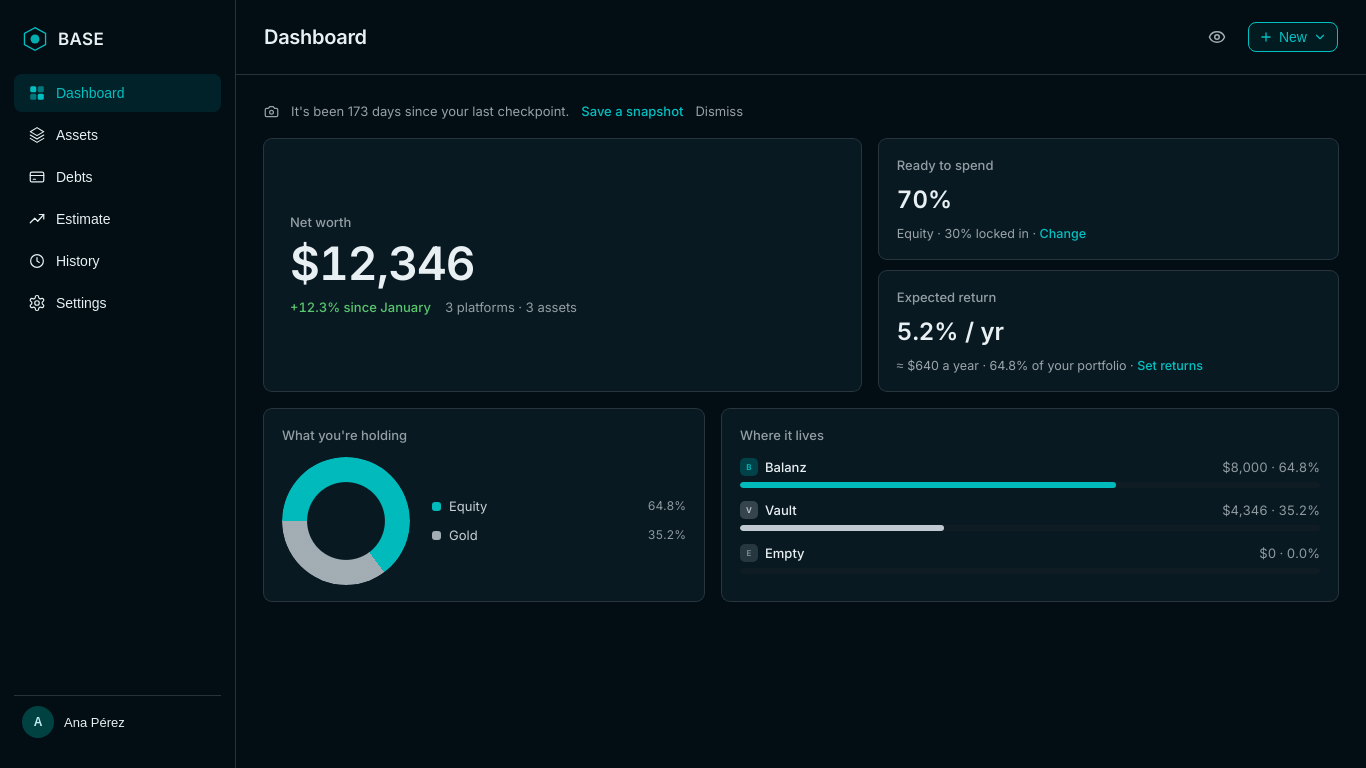
it: an asset’s expected return › is changed or cleared when editing one, and alone is a change
Expected: the text "$12,346" is shown, [290,235,475,291]
Click the button "Assets": (118, 135) [14,116,221,154]
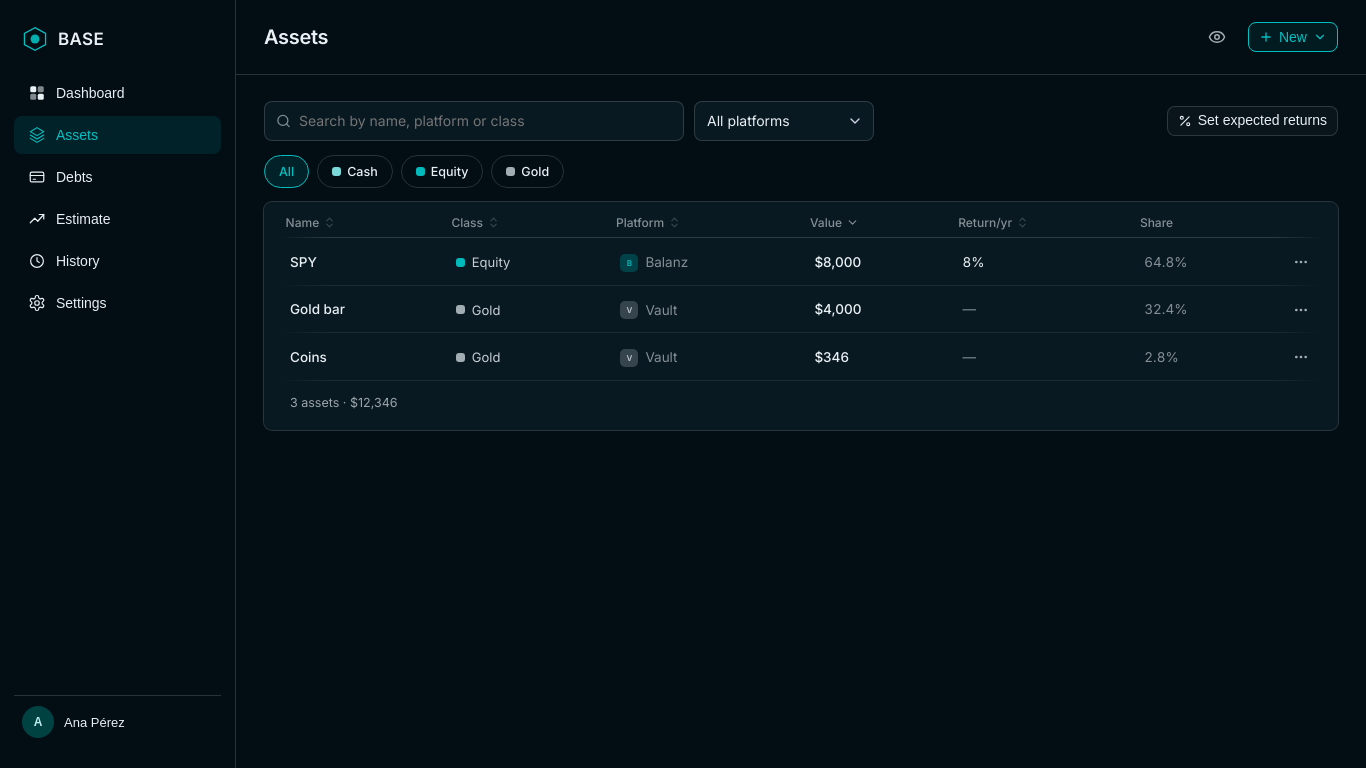
Click the button named "Actions for SPY": (1301, 262) [1286,247,1316,277]
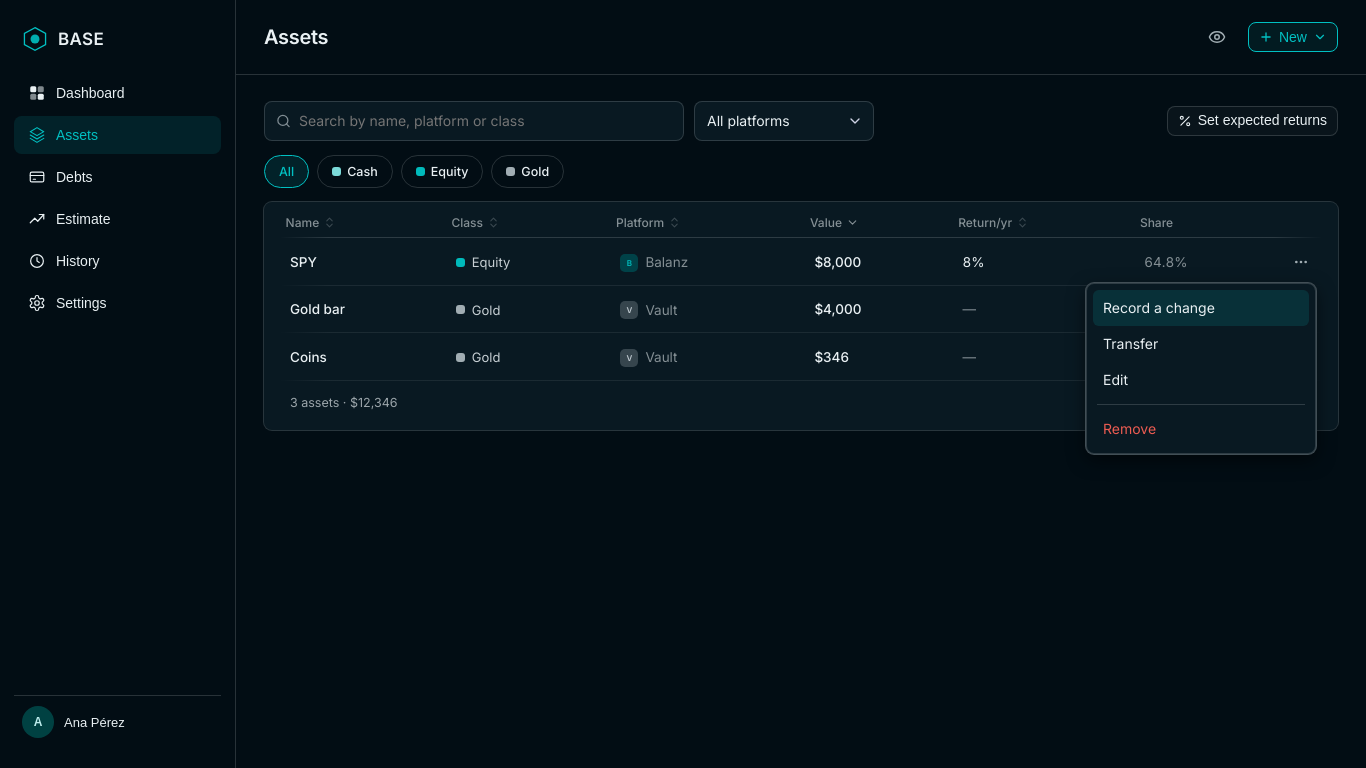
Click the menu item "Edit": (1201, 380) [1093,362,1309,398]
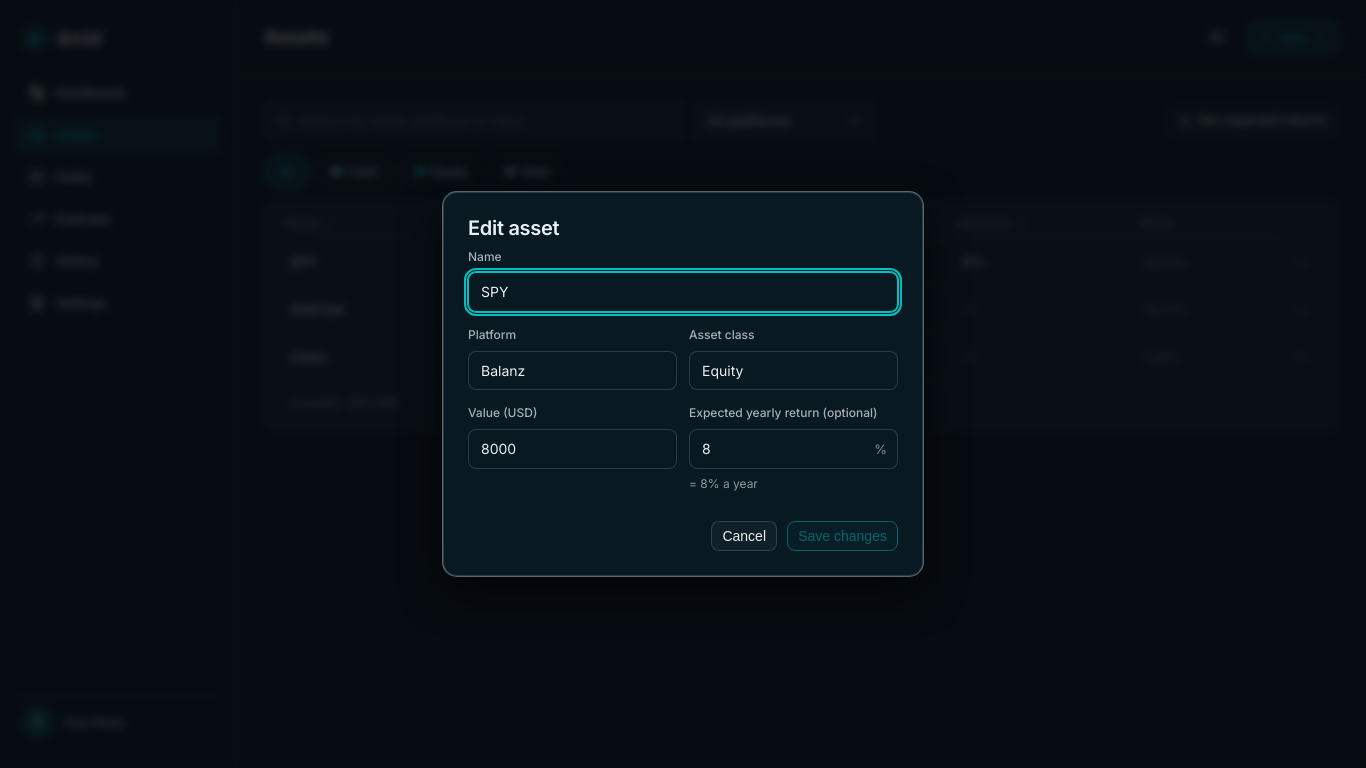
Expected: the field labelled "Expected yearly return (optional)" holds "8"
Expected: the button "Save changes" is disabled, [787,521,898,551]
Clear the field labelled "Expected yearly return (optional)": (794, 449) [689,429,898,468]
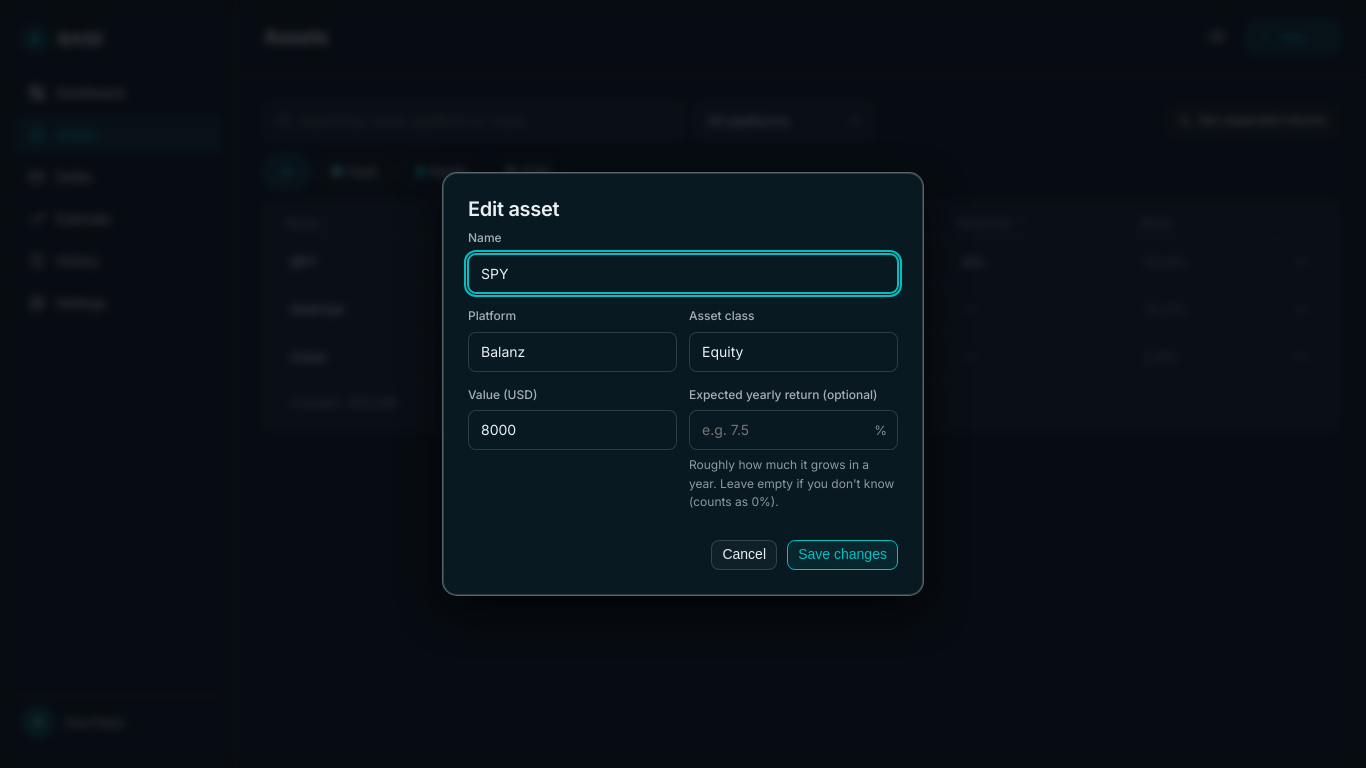
Expected: the button "Save changes" is enabled
Click the button "Save changes": (843, 555) [787,540,898,570]
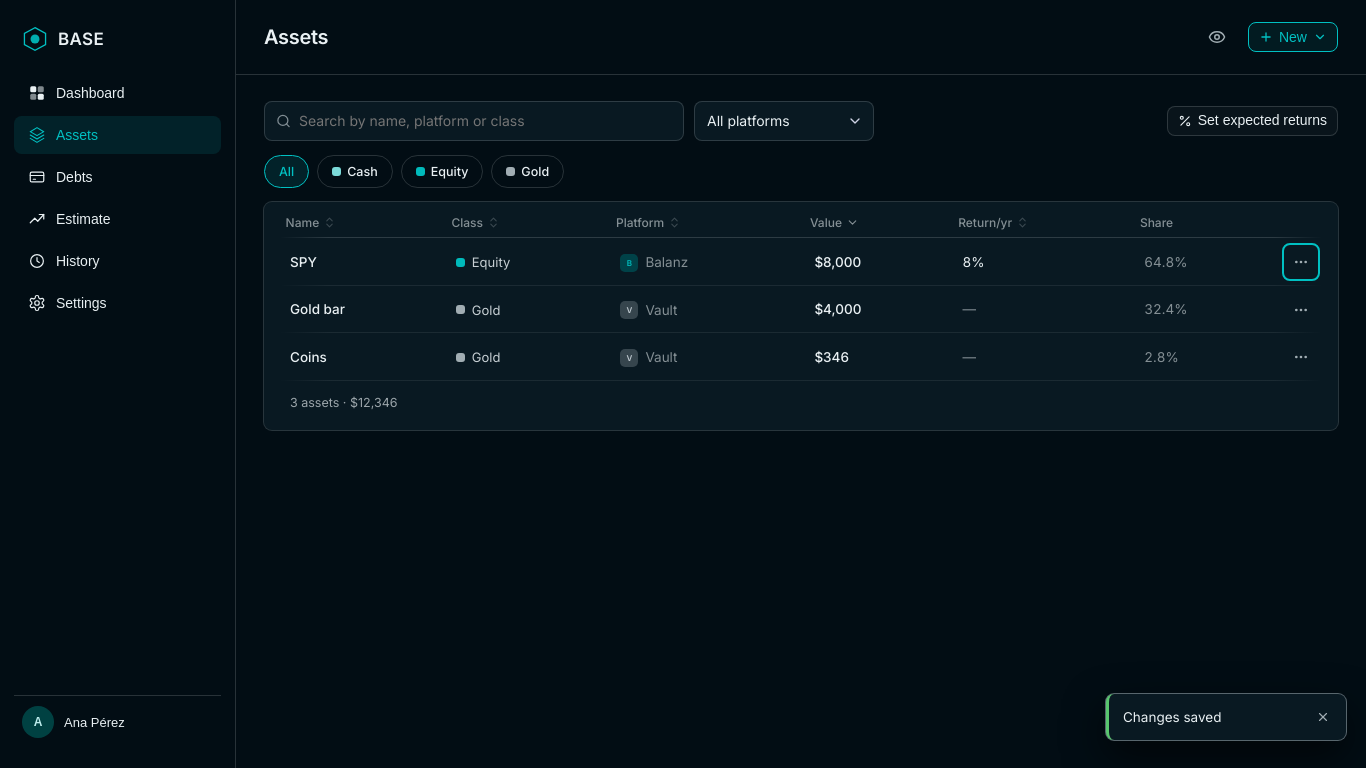
Expected: the dialog is gone
